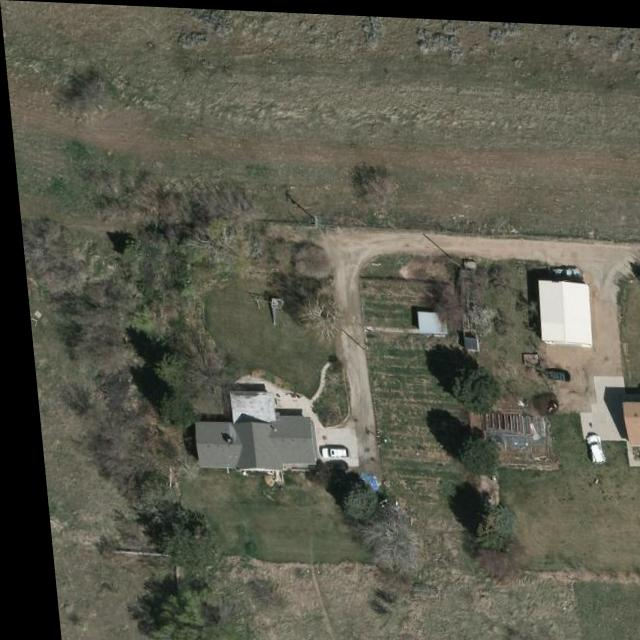vehicle: (543, 259, 578, 278), (579, 429, 598, 460), (311, 446, 340, 457), (539, 365, 563, 377)
